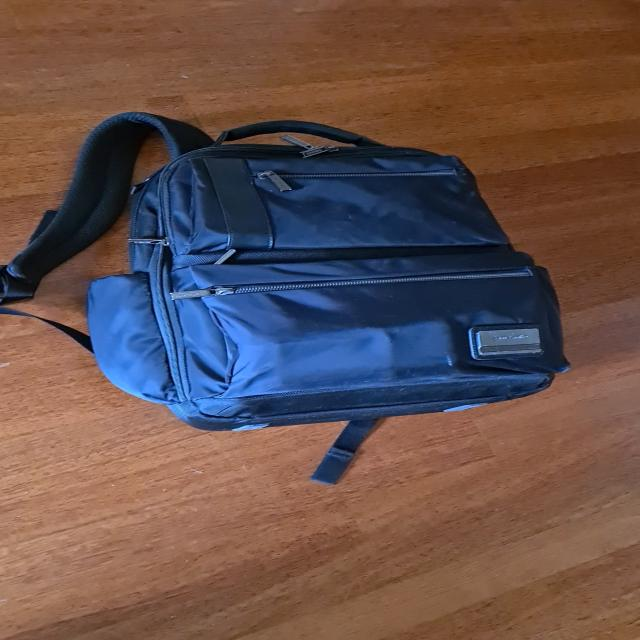backpack: (62, 104, 575, 450)
